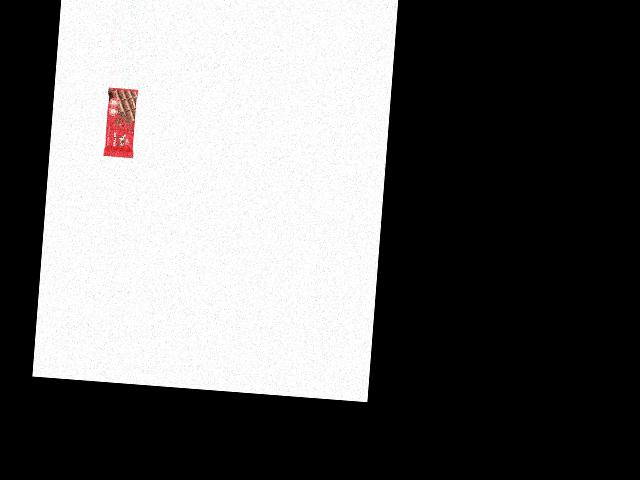chocolate: (102, 87, 138, 159)
